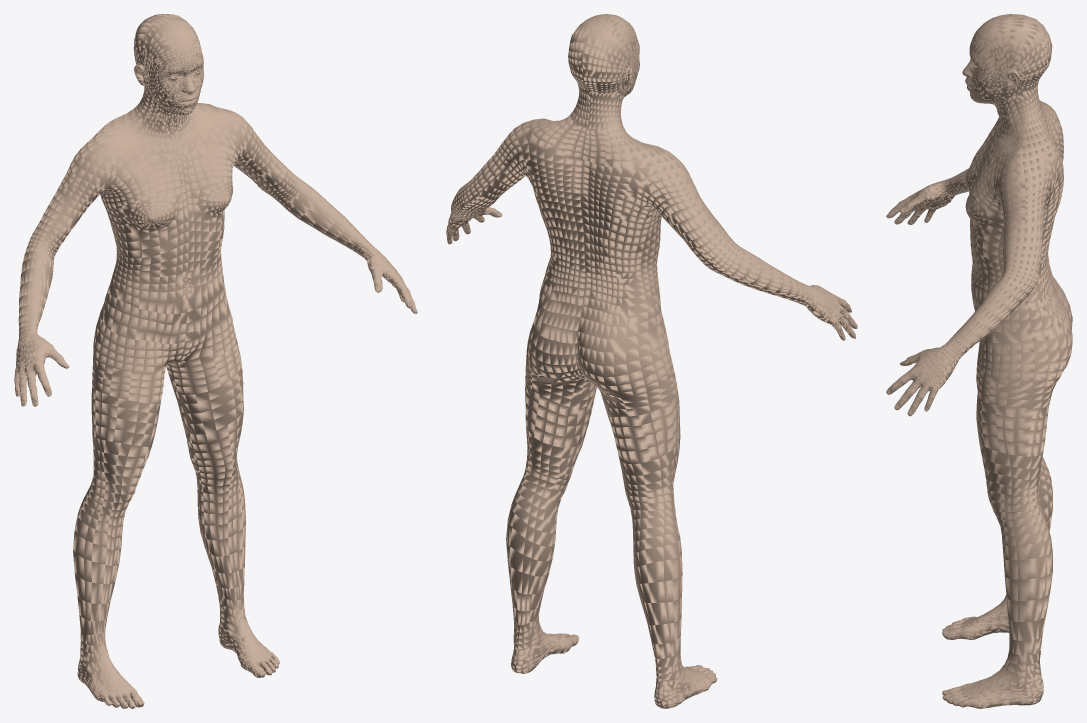
Rendered from Human_Deformable.fbx.
3 views of the same model, side by side, from view 1: azimuth 30°, elevation 25°; view 2: azimuth 150°, elevation 25°; view 3: azimuth 270°, elevation 25° (orthographic).
Visible parts, largest first — view 1: human_baseMesh; view 2: human_baseMesh; view 3: human_baseMesh.
Part boxes in pixels (x1=…): human_baseMesh: x1=14, y1=14, x2=417, y2=708; human_baseMesh: x1=446, y1=14, x2=857, y2=708; human_baseMesh: x1=886, y1=14, x2=1072, y2=708.
Size of the model in its own units: 1069 by 1687 by 438.
